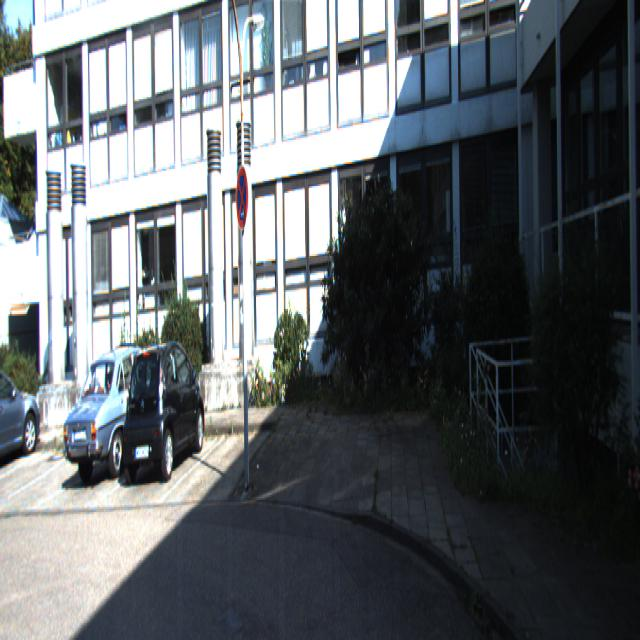Car: (60, 338, 172, 486), (121, 334, 205, 478), (0, 356, 41, 472)
